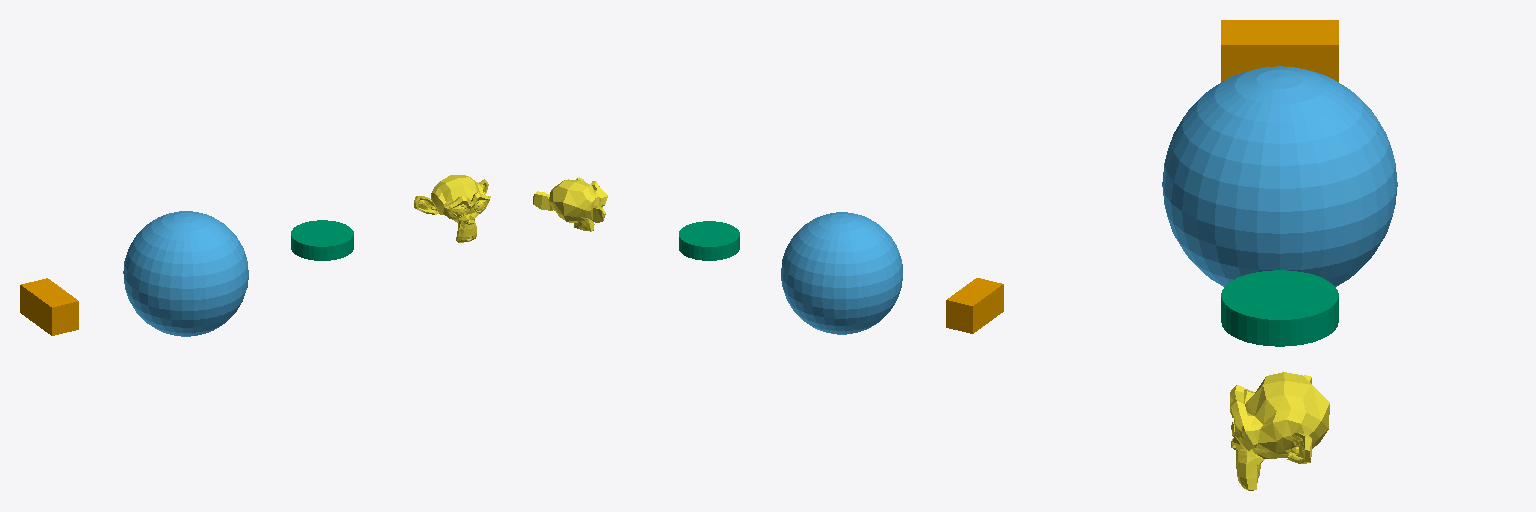
The robot description file, URDF, robot "urdf_test":
<?xml version="1.0"?>
<robot name="urdf_test">

    <material name="darkgrey">
        <color rgba="0.25 0.25 0.25 0.8"/>
    </material>
    <material name="lightgrey">
        <color rgba="0.8 0.8 0.8 1.0"/>
    </material>
    
    <link name="box_link">
        <inertial>
        <origin xyz="0. 0. 0."/>
        <mass value="1."/>
        <inertia ixx="1." ixy="0." ixz="0." iyy="1." iyz="0." izz="1."/>
        </inertial>
        <visual>
            <origin rpy="0 0 0" xyz="0 0 0"/>
            <geometry>
                <box size="1 2 1"/>
            </geometry>
        </visual>
        <material name="lightgrey"/>
        <collision>
            <origin rpy="0 0 0" xyz="0 0 0"/>
            <geometry>
                <box size="1 2 1"/>
            </geometry>
        </collision>
    </link>

    <link name="sphere_link">
        <inertial>
        <origin xyz="0. 0. 0."/>
        <mass value="1."/>
        <inertia ixx="1." ixy="0." ixz="0." iyy="1." iyz="0." izz="1."/>
        </inertial>
        <visual>
            <origin rpy="0 0 0" xyz="0 0 0"/>
            <geometry>
                <sphere radius="2"/>
            </geometry>
        </visual>
        <material name="lightgrey"/>
        <collision>
            <origin rpy="0 0 0" xyz="0 0 0"/>
            <geometry>
                <sphere radius="2"/>
            </geometry>
        </collision>
    </link>
    
    <link name="cylinder_link">
        <inertial>
        <origin xyz="0. 0. 0."/>
        <mass value="1."/>
        <inertia ixx="1." ixy="0." ixz="0." iyy="1." iyz="0." izz="1."/>
        </inertial>
        <visual>
            <origin rpy="0 0 0" xyz="0 0 0"/>
            <geometry>
                <cylinder radius="1" length="0.5"/>
            </geometry>
        </visual>
        <material name="lightgrey"/>
        <collision>
            <origin rpy="0 0 0" xyz="0 0 0"/>
            <geometry>
                <cylinder radius="1" length="0.5"/>
            </geometry>
        </collision>
    </link>
   
    <link name="suzanne_link">
        <inertial>
        <origin xyz="0. 0. 0."/>
        <mass value="1."/>
        <inertia ixx="1." ixy="0." ixz="0." iyy="1." iyz="0." izz="1."/>
        </inertial>
        <visual>
            <origin rpy="0 0 0" xyz="0 0 0"/>
            <geometry>
                <mesh filename="suzanne.dae"/>
            </geometry>
        </visual>
        <material name="lightgrey"/>
        <collision>
            <origin rpy="0 0 0" xyz="0 0 0"/>
            <geometry>
                <mesh filename="suzanne.dae"/>
            </geometry>
        </collision>
    </link>
   

    <joint name="joint0" type="fixed">
        <parent link="box_link"/>
        <child link="sphere_link"/>
        <axis xyz="0. 0. 1."/>
        <origin rpy="0. 0. 0." xyz="5. 0. 0."/>
        <limit effort="1000.0" lower="-2" upper="0.95" velocity="100"/>
    </joint>

    <joint name="joint1" type="fixed">
        <parent link="sphere_link"/>
        <child link="cylinder_link"/>
        <axis xyz="0. 0. 1."/>
        <origin rpy="0. 0. 0." xyz="5. 0. 0."/>
        <limit effort="1000.0" lower="-2" upper="0.95" velocity="100"/>
    </joint>

    <joint name="joint2" type="fixed">
        <parent link="cylinder_link"/>
        <child link="suzanne_link"/>
        <axis xyz="0. 0. 1."/>
        <origin rpy="0. 0. 0." xyz="5. 0. 0."/>
        <limit effort="1000.0" lower="-2" upper="0.95" velocity="100"/>
    </joint>
  

</robot>

--- Facts derived from the render (not from the file) ---
The picture shows the robot from 3 angles, left to right: view 1: azimuth 30°, elevation 25°; view 2: azimuth 150°, elevation 25°; view 3: azimuth 270°, elevation 25°; orthographic projection.
Model urdf_test with 4 links and 3 joints (3 fixed), rooted at box_link, posed all joints at 0.
Visible links, largest first — view 1: sphere_link, suzanne_link, box_link, cylinder_link; view 2: sphere_link, suzanne_link, box_link, cylinder_link; view 3: sphere_link, suzanne_link, cylinder_link, box_link.
Link boxes in pixels (left/top/right/bottom): sphere_link: left=123, top=211, right=248, bottom=336; suzanne_link: left=414, top=175, right=490, bottom=242; box_link: left=20, top=278, right=78, bottom=335; cylinder_link: left=291, top=220, right=353, bottom=260; sphere_link: left=781, top=212, right=902, bottom=334; suzanne_link: left=533, top=177, right=607, bottom=231; box_link: left=946, top=278, right=1003, bottom=333; cylinder_link: left=679, top=221, right=739, bottom=260; sphere_link: left=1162, top=66, right=1397, bottom=286; suzanne_link: left=1230, top=372, right=1329, bottom=490; cylinder_link: left=1221, top=270, right=1338, bottom=346; box_link: left=1221, top=20, right=1338, bottom=81.
Size in the robot's own frame: 16.87 by 4 by 4 metres.
Meshes: 1 distinct files referenced, 1 mesh visuals loaded (1 Collada DAE).
